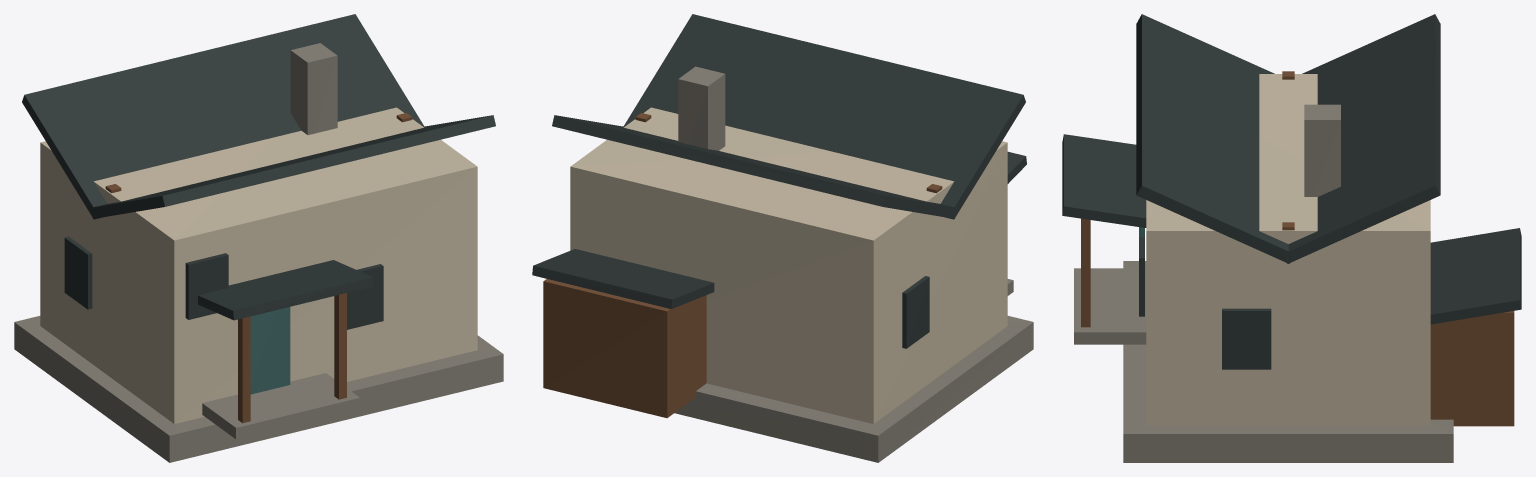
The model's file is Farmhouse.glb.
The picture shows the model from 3 angles, left to right: view 1: azimuth 30°, elevation 25°; view 2: azimuth 150°, elevation 25°; view 3: azimuth 270°, elevation 25°; orthographic projection. The views are drawn at different scales.
Visible parts, largest first — view 1: farmhouse-static-farmhouse-cream-walls, farmhouse-static-farmhouse-charcoal-roof-and-glass, farmhouse-static-farmhouse-pale-stone-foundation, farmhouse-static-farmhouse-muted-teal-door, farmhouse-static-farmhouse-warm-timber-trim; view 2: farmhouse-static-farmhouse-cream-walls, farmhouse-static-farmhouse-charcoal-roof-and-glass, farmhouse-static-farmhouse-warm-timber-trim, farmhouse-static-farmhouse-pale-stone-foundation; view 3: farmhouse-static-farmhouse-charcoal-roof-and-glass, farmhouse-static-farmhouse-cream-walls, farmhouse-static-farmhouse-pale-stone-foundation, farmhouse-static-farmhouse-warm-timber-trim.
Part boxes in pixels (x1=…): farmhouse-static-farmhouse-cream-walls: x1=40, y1=107, x2=477, y2=423; farmhouse-static-farmhouse-charcoal-roof-and-glass: x1=22, y1=14, x2=495, y2=329; farmhouse-static-farmhouse-pale-stone-foundation: x1=14, y1=43, x2=503, y2=462; farmhouse-static-farmhouse-muted-teal-door: x1=250, y1=307, x2=290, y2=394; farmhouse-static-farmhouse-warm-timber-trim: x1=105, y1=113, x2=412, y2=423; farmhouse-static-farmhouse-cream-walls: x1=570, y1=107, x2=1007, y2=423; farmhouse-static-farmhouse-charcoal-roof-and-glass: x1=532, y1=14, x2=1026, y2=348; farmhouse-static-farmhouse-warm-timber-trim: x1=543, y1=113, x2=942, y2=417; farmhouse-static-farmhouse-pale-stone-foundation: x1=674, y1=66, x2=1033, y2=462; farmhouse-static-farmhouse-charcoal-roof-and-glass: x1=1062, y1=14, x2=1521, y2=369; farmhouse-static-farmhouse-cream-walls: x1=1146, y1=74, x2=1430, y2=425; farmhouse-static-farmhouse-pale-stone-foundation: x1=1074, y1=104, x2=1453, y2=462; farmhouse-static-farmhouse-warm-timber-trim: x1=1081, y1=71, x2=1514, y2=426.
Bounding box in the file's own units: 5.4 × 4.37 × 6.06.
